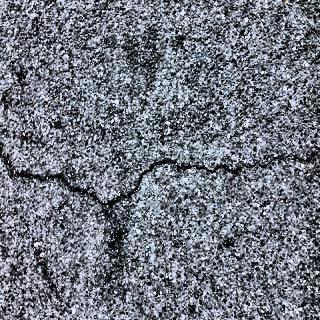crack: (3, 115, 314, 244)
